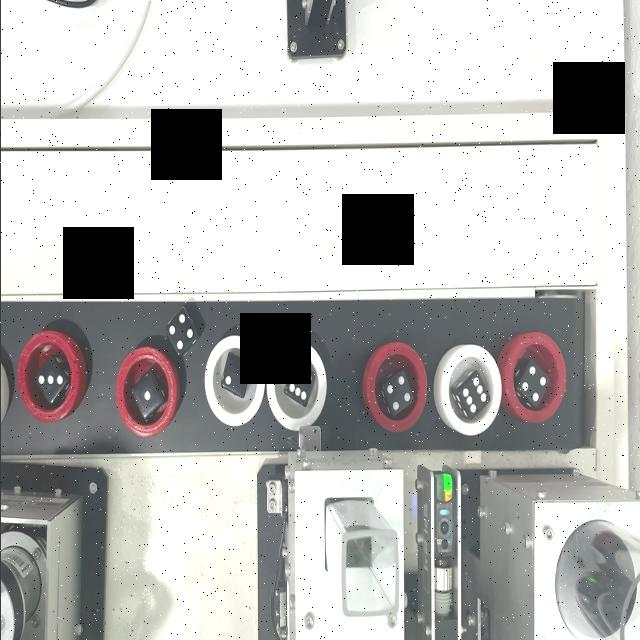DICE1: (136, 384, 158, 406)
DICE2: (219, 355, 249, 391)
DICE3: (30, 360, 66, 390)
DICE4: (518, 360, 550, 406), (382, 369, 411, 411), (167, 309, 195, 352)
DICE6: (454, 376, 488, 426), (284, 366, 314, 402)
RedChip: (500, 329, 566, 428), (363, 342, 427, 436), (16, 333, 76, 422), (113, 348, 173, 436)
WhiteChip: (432, 342, 499, 438), (266, 338, 328, 430), (204, 334, 264, 428)
